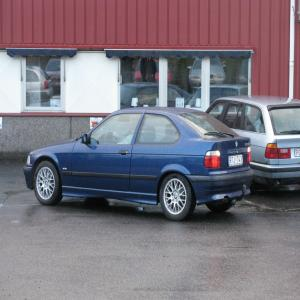Vehicle-registration-plate: (228, 154, 245, 168), (295, 148, 300, 157)
